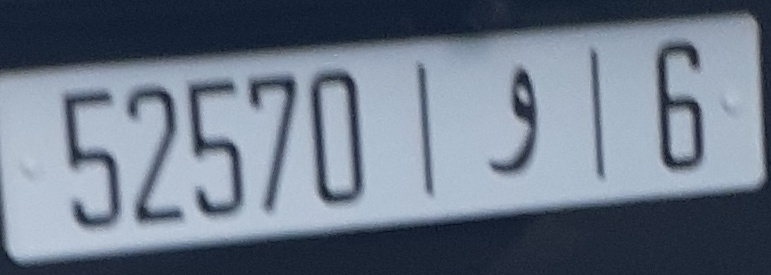0: (309, 69, 371, 205)
2: (124, 79, 187, 227)
5: (57, 86, 125, 234), (183, 73, 247, 221)
6: (649, 34, 714, 173)
7: (246, 72, 300, 216)
waw: (481, 60, 546, 183)
